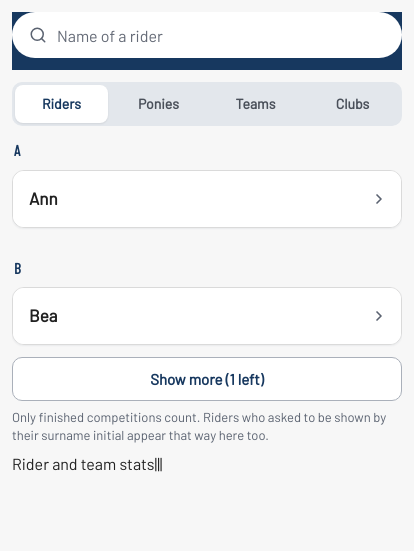
Scenario: StatsPage browse › shows more when the list runs past a page
The image size is (414, 551).
Check: the element named "Riders A" does not show "rider", box [12, 142, 402, 228]
Click the button "Show more (1 left)" at (207, 379), box [12, 357, 402, 401]
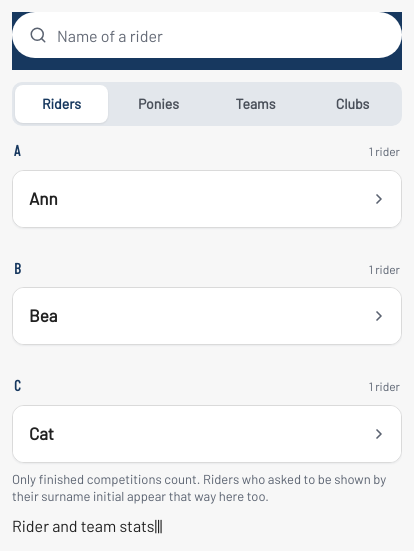
Check: the text "Cat" is shown, box [29, 423, 54, 443]
Check: the element named "Riders C" shows "1 rider", box [369, 379, 400, 393]
Check: the button "Show more" is gone
